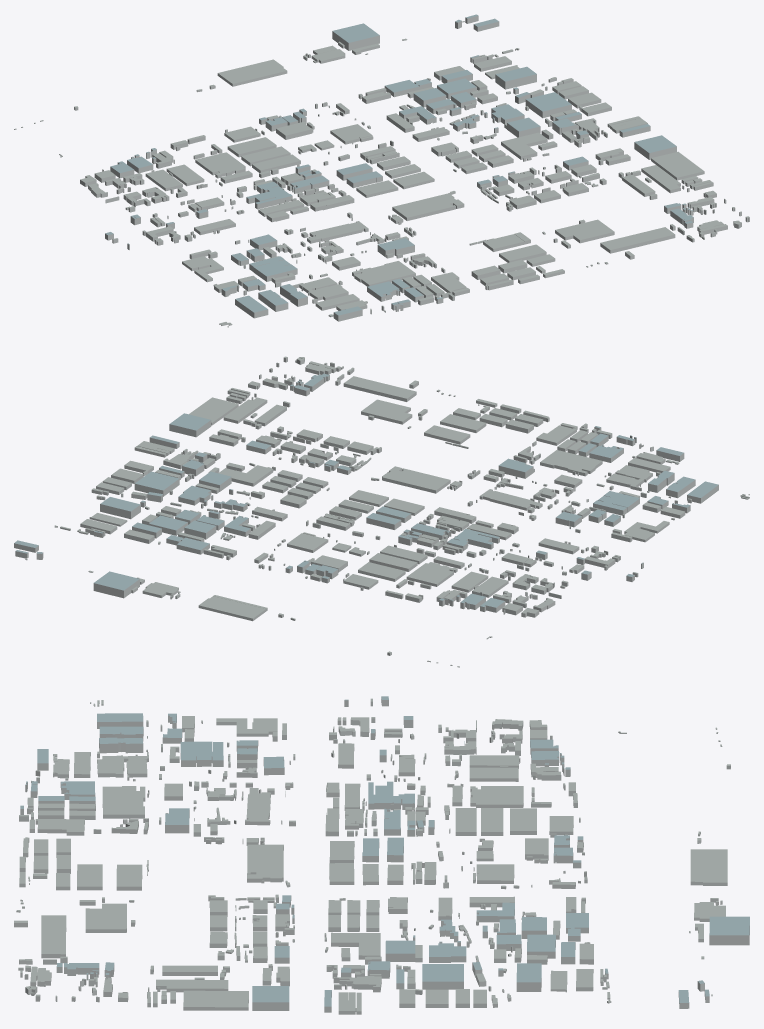
The model's file is far.glb.
The picture shows the model from 3 angles, top to bottom: view 1: azimuth 30°, elevation 25°; view 2: azimuth 150°, elevation 25°; view 3: azimuth 270°, elevation 25°; orthographic projection. The views are drawn at different scales.
Bounding box in the file's own units: 2176 × 31.81 × 2160.
